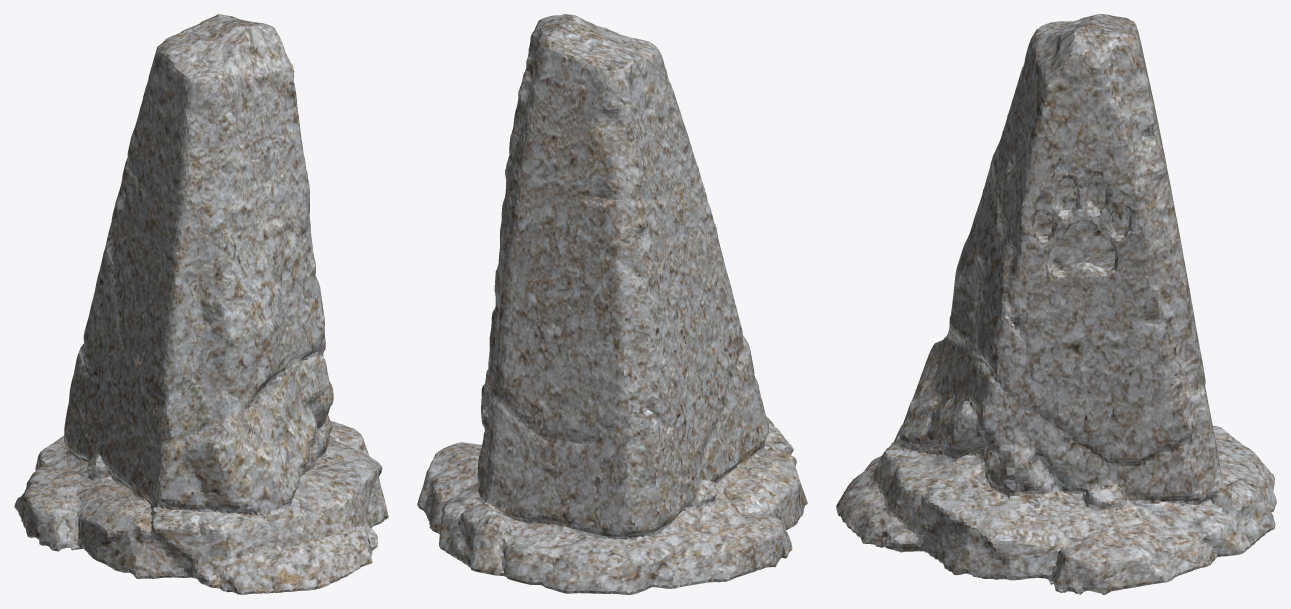
File: roca.glb
3 views of the same model, side by side, from view 1: azimuth 30°, elevation 25°; view 2: azimuth 150°, elevation 25°; view 3: azimuth 270°, elevation 25° (orthographic). The views are drawn at different scales.
Visible parts, largest first — view 1: tripo_node_8ff045e9-167c-4e1a-80d8-2dbfddd3f64c; view 2: tripo_node_8ff045e9-167c-4e1a-80d8-2dbfddd3f64c; view 3: tripo_node_8ff045e9-167c-4e1a-80d8-2dbfddd3f64c.
Part boxes in pixels (<box>): tripo_node_8ff045e9-167c-4e1a-80d8-2dbfddd3f64c: <box>14,14,388,594</box>; tripo_node_8ff045e9-167c-4e1a-80d8-2dbfddd3f64c: <box>417,14,807,594</box>; tripo_node_8ff045e9-167c-4e1a-80d8-2dbfddd3f64c: <box>836,14,1276,594</box>.
Bounding box in the file's own units: 0.7313 × 0.9958 × 0.7913.
1 material, 1 textured.
